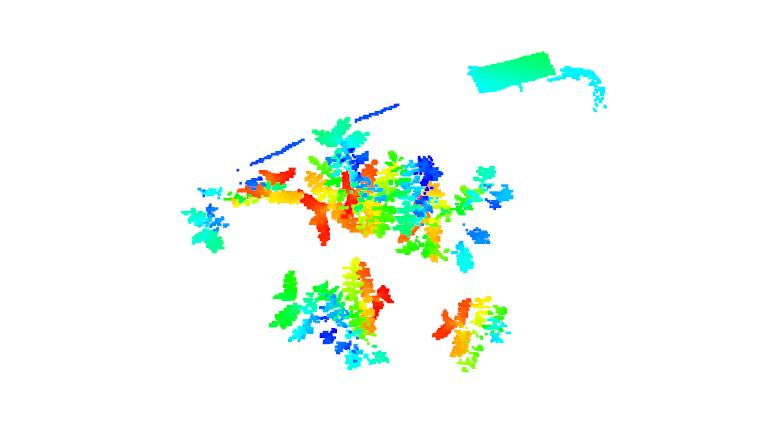chickpea: (403, 148, 517, 272), (312, 120, 402, 247), (330, 259, 396, 368), (258, 269, 334, 355), (432, 297, 512, 377), (222, 164, 307, 221), (171, 190, 219, 261)
